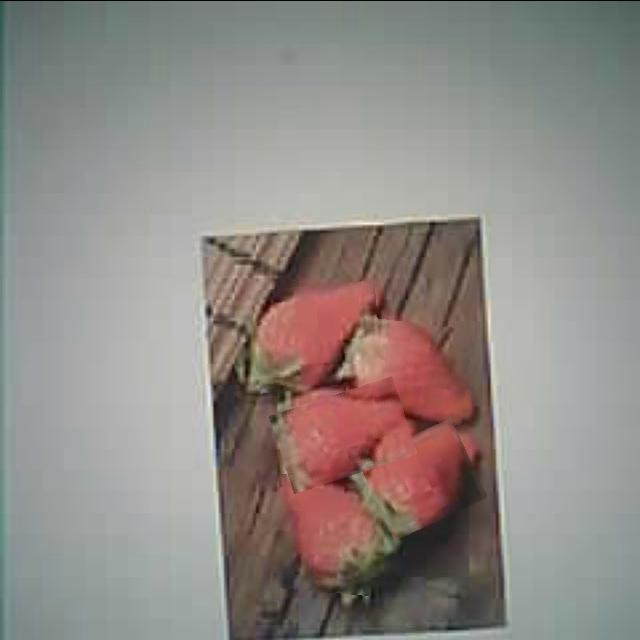strawberry: (274, 384, 413, 484), (254, 282, 382, 390), (346, 318, 470, 421), (364, 425, 480, 531), (273, 475, 377, 593)
